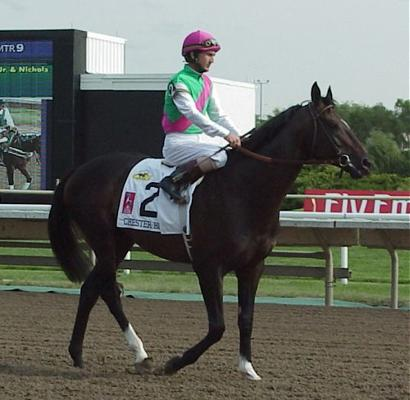person: (161, 27, 244, 206)
